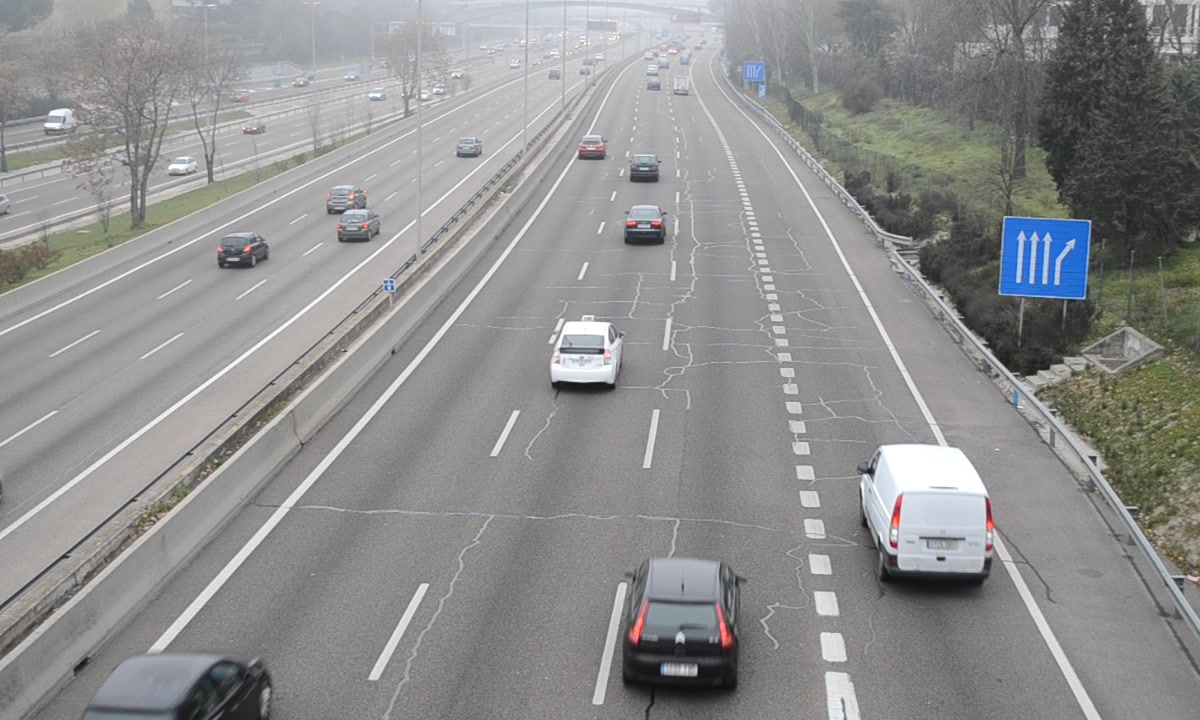car: (622, 560, 744, 695), (552, 319, 622, 384), (623, 204, 666, 242), (629, 151, 657, 180), (577, 133, 607, 160)
van: (860, 444, 994, 583)
